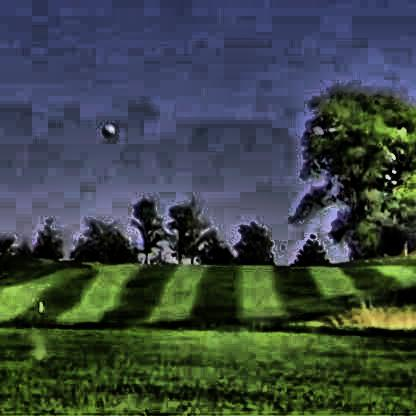golfball: (99, 120, 113, 136)
